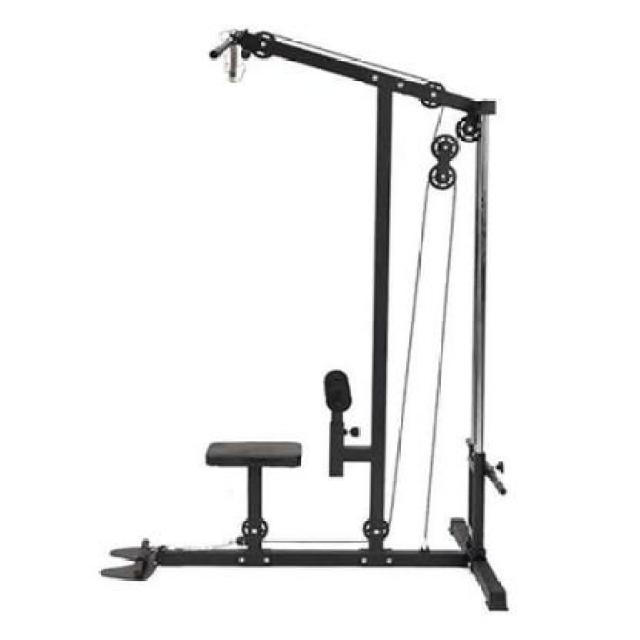Lat Pull Down: (86, 18, 537, 616)
